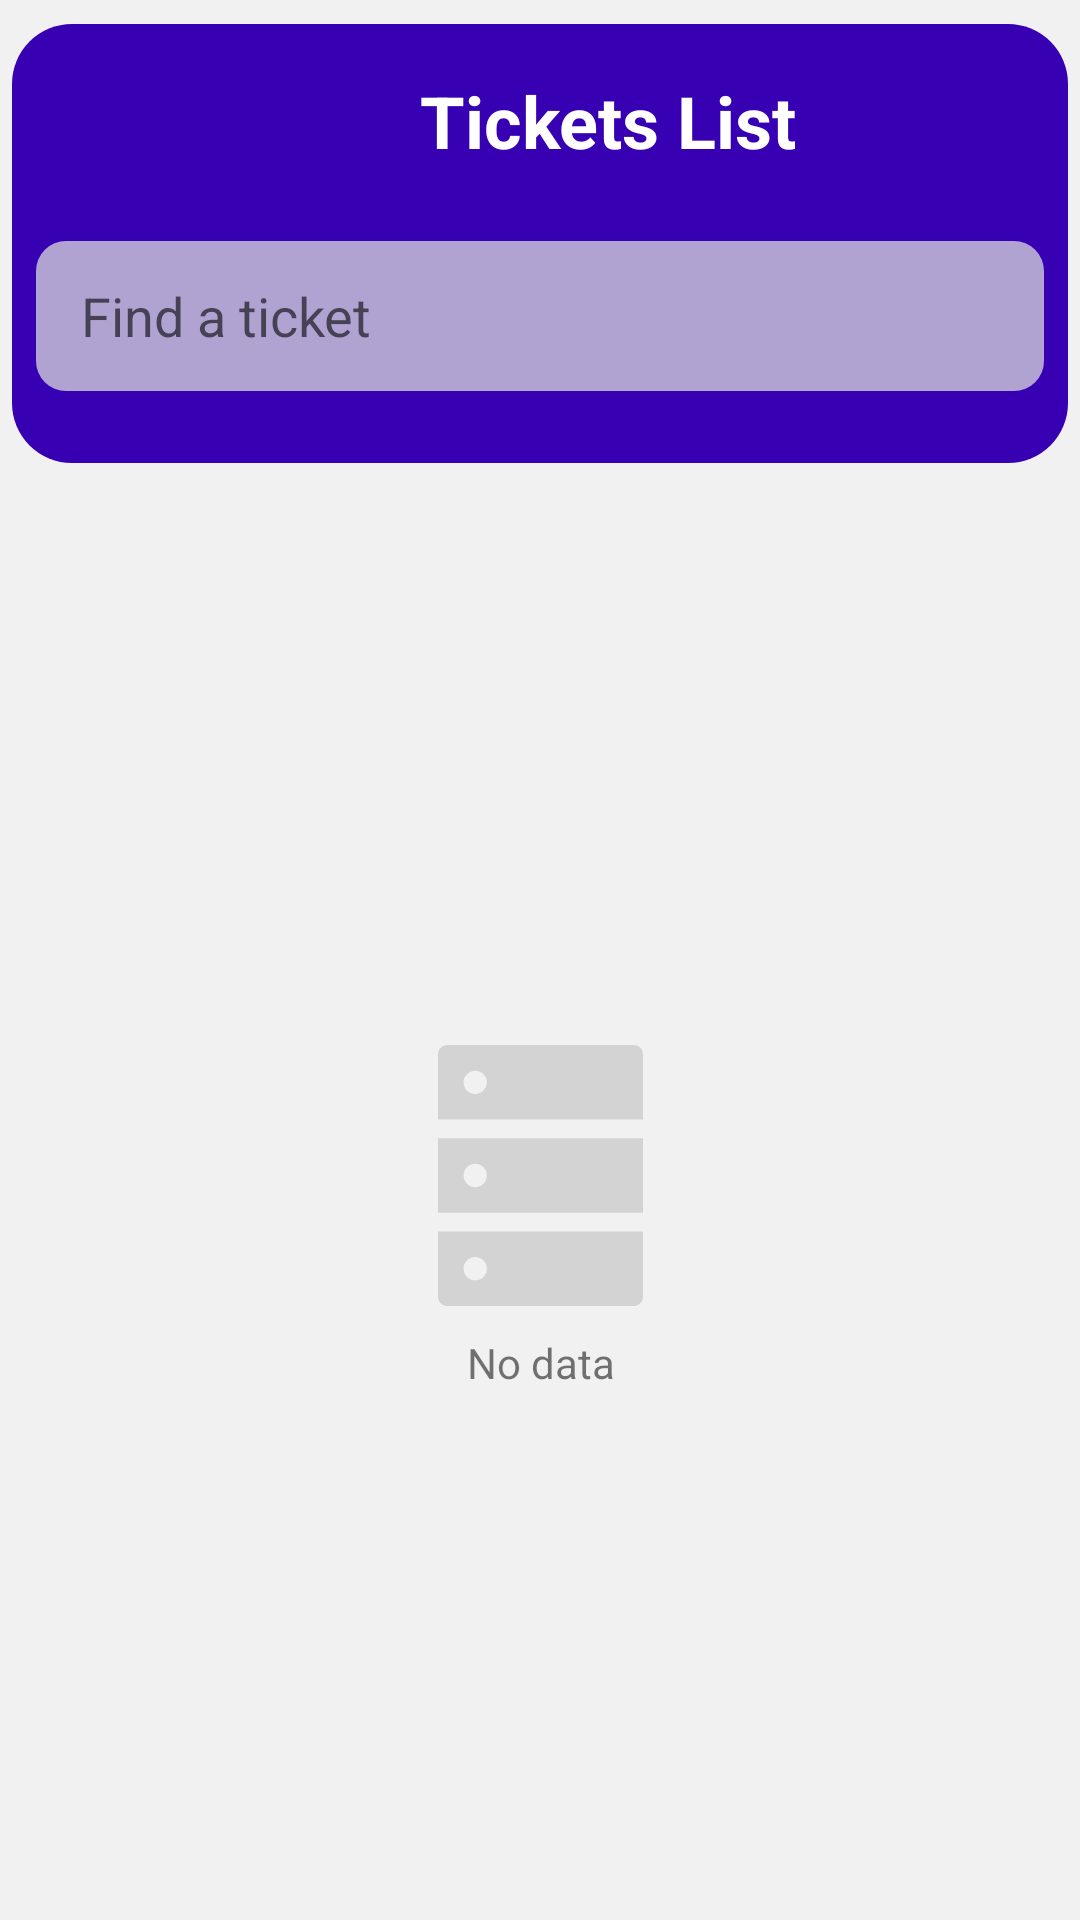

Locate icon controls on the screen. Image size 1080 × 1920, boxes as (x1,y1,x2,y2).
database: (438,1045,643,1306)
